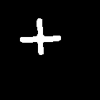single_crochet: (20, 19, 60, 54)
